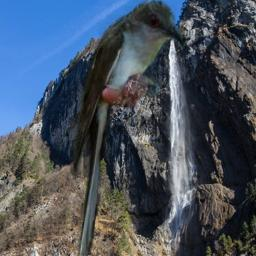Cuckoo: (70, 0, 187, 256)
